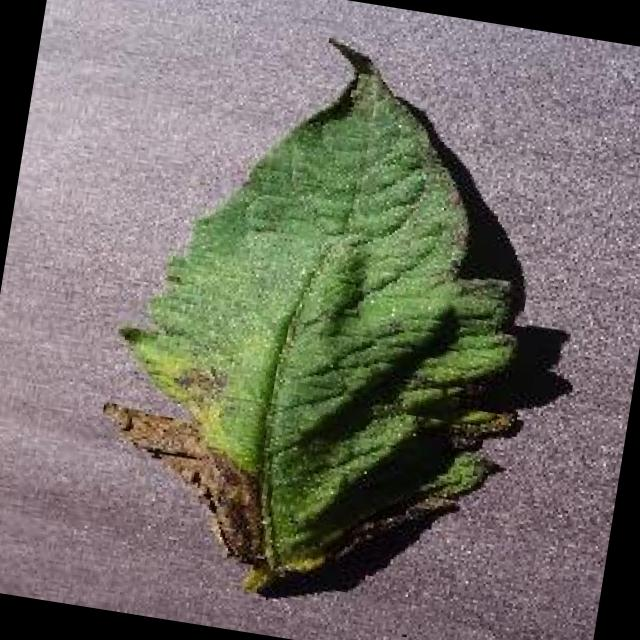Tomato_Early_Blight: (82, 218, 512, 599)
